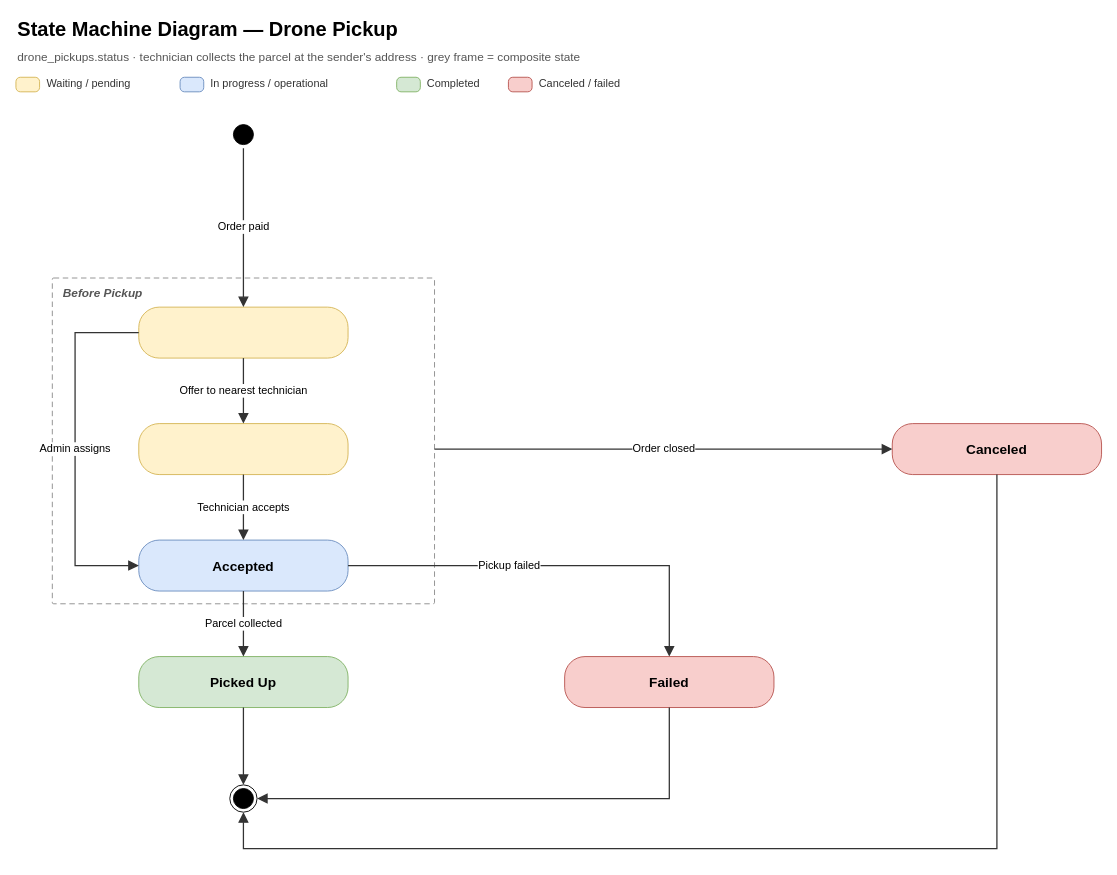
Image size: 1117x875. Some labels were removed from this diagram. Here are the shapes that lost their labels. From the top down, the box of each, then its label:
(138, 306, 348, 358): Searching
(138, 423, 348, 475): Offered
